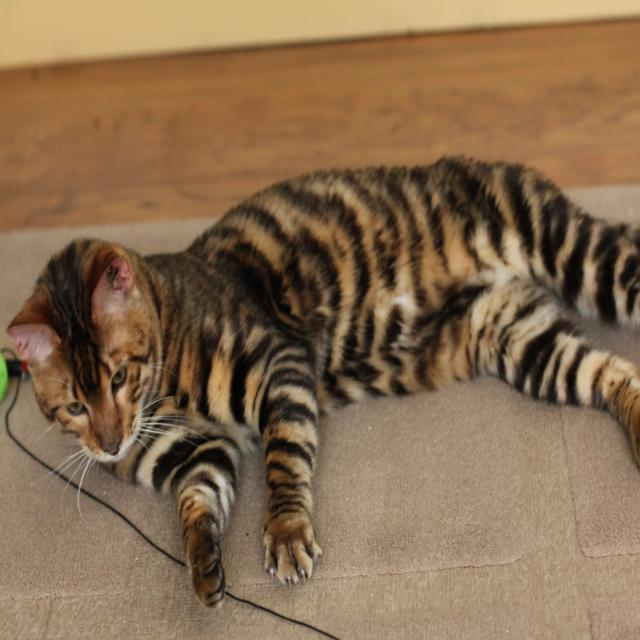Toyger: (4, 154, 640, 614)
